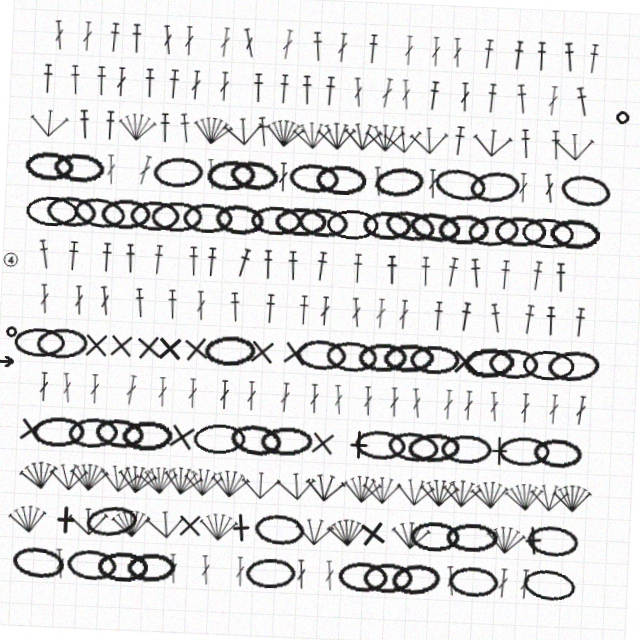chain: (427, 160, 482, 197), (93, 512, 148, 549), (379, 204, 433, 241), (462, 205, 517, 241), (462, 161, 516, 197), (553, 161, 607, 197), (68, 205, 122, 241), (533, 557, 588, 592), (367, 161, 420, 197), (548, 337, 602, 372), (234, 425, 288, 460), (22, 557, 76, 592), (404, 205, 457, 240), (401, 557, 454, 592), (392, 426, 446, 460), (412, 426, 466, 460), (464, 338, 517, 372), (199, 162, 251, 196), (222, 162, 274, 196), (37, 338, 90, 371), (536, 514, 589, 547), (517, 207, 571, 239), (198, 427, 252, 459), (146, 162, 198, 195), (41, 206, 93, 239), (205, 338, 257, 371), (384, 338, 436, 371), (72, 426, 124, 459), (99, 426, 151, 459), (77, 558, 129, 591), (327, 339, 380, 371), (37, 427, 90, 459), (265, 427, 318, 459), (46, 163, 98, 195), (282, 163, 334, 195), (146, 207, 198, 239), (293, 207, 345, 239), (433, 207, 485, 239), (126, 427, 178, 459), (263, 515, 315, 547), (210, 207, 261, 239), (359, 339, 410, 371), (538, 427, 589, 459), (137, 559, 188, 591), (256, 559, 307, 591), (490, 207, 542, 238), (504, 427, 556, 458), (322, 208, 375, 238), (524, 340, 577, 370), (96, 207, 147, 238), (545, 207, 596, 238), (297, 339, 348, 370), (360, 427, 411, 458), (349, 559, 400, 590), (374, 559, 425, 590), (459, 559, 510, 590), (21, 208, 73, 238), (246, 208, 298, 238), (270, 208, 322, 238), (15, 340, 67, 370), (455, 516, 507, 546), (18, 163, 68, 194), (309, 164, 360, 194), (125, 208, 176, 238), (411, 340, 462, 370), (490, 340, 541, 370), (446, 428, 497, 458), (419, 516, 470, 546), (108, 560, 159, 590), (178, 208, 228, 238), (358, 208, 408, 238)
double: (130, 163, 147, 194), (229, 31, 245, 62), (370, 75, 384, 106), (269, 31, 282, 62), (537, 163, 550, 194), (98, 295, 111, 326), (128, 383, 141, 414), (149, 32, 162, 62), (64, 384, 77, 414), (414, 384, 427, 414), (578, 384, 591, 414), (456, 560, 469, 590), (41, 32, 53, 62), (207, 32, 219, 62), (342, 76, 354, 106), (390, 76, 402, 106), (537, 76, 549, 106), (199, 164, 211, 194), (366, 164, 378, 194), (38, 296, 50, 326), (350, 296, 362, 326), (336, 384, 348, 414), (492, 384, 504, 414), (65, 560, 77, 590), (211, 560, 223, 590), (335, 560, 347, 590), (325, 32, 336, 62), (440, 32, 451, 62), (180, 76, 191, 106), (99, 164, 110, 194), (421, 164, 432, 194), (73, 296, 84, 326), (195, 296, 206, 326), (319, 296, 330, 326), (375, 296, 386, 326), (398, 296, 409, 326), (283, 384, 294, 414), (366, 384, 377, 414), (552, 384, 563, 414), (179, 560, 190, 590), (246, 560, 257, 590), (307, 560, 318, 590), (509, 560, 520, 590), (531, 560, 542, 590), (70, 32, 80, 62), (172, 32, 182, 62), (392, 32, 402, 62), (419, 32, 429, 62), (106, 76, 116, 106), (209, 76, 219, 106), (450, 76, 460, 106), (272, 164, 282, 194), (512, 164, 522, 194), (42, 384, 52, 414), (93, 384, 103, 414), (161, 384, 171, 414), (191, 384, 201, 414), (223, 384, 233, 414), (250, 384, 260, 414), (313, 384, 323, 414), (393, 384, 403, 414), (447, 384, 457, 414), (467, 384, 477, 414), (524, 384, 534, 414)
fan: (25, 469, 68, 505), (168, 469, 212, 504), (183, 118, 226, 152), (123, 470, 166, 504), (374, 118, 416, 152), (511, 470, 553, 504), (16, 514, 58, 548), (214, 118, 256, 151), (256, 118, 298, 151), (106, 470, 148, 503), (145, 470, 187, 503), (283, 470, 325, 503), (154, 514, 196, 547), (335, 514, 377, 547), (477, 470, 518, 503), (283, 119, 325, 151), (400, 119, 442, 151), (546, 119, 588, 151), (308, 119, 349, 151), (464, 119, 505, 151), (217, 471, 258, 503), (312, 471, 353, 503), (77, 515, 118, 547), (120, 515, 161, 547), (495, 515, 536, 547), (403, 471, 443, 503), (76, 471, 117, 502), (190, 471, 231, 502), (369, 471, 410, 502), (449, 471, 490, 502), (400, 515, 441, 546), (21, 119, 61, 150), (109, 119, 149, 150), (335, 119, 375, 150), (357, 119, 397, 150), (350, 471, 390, 502), (537, 471, 577, 502), (560, 471, 600, 502), (208, 515, 248, 546), (56, 472, 96, 502), (248, 472, 288, 502), (427, 472, 467, 502), (304, 516, 344, 546)
half_double: (232, 251, 250, 282), (564, 75, 581, 106), (34, 251, 50, 282), (442, 251, 458, 282), (488, 295, 504, 326), (550, 31, 565, 62), (466, 251, 481, 282), (521, 295, 536, 326), (505, 75, 519, 106), (170, 119, 184, 150), (248, 119, 262, 150), (312, 251, 326, 282), (528, 251, 542, 282), (458, 295, 472, 326), (69, 120, 83, 150), (444, 120, 458, 150), (299, 32, 312, 62), (470, 32, 483, 62), (500, 32, 513, 62), (575, 32, 588, 62), (157, 76, 170, 106), (417, 76, 430, 106), (150, 120, 163, 150), (511, 120, 524, 150), (64, 252, 77, 282), (149, 252, 162, 282), (284, 252, 297, 282), (383, 252, 396, 282), (552, 252, 565, 282), (133, 296, 146, 326), (228, 296, 241, 326), (573, 296, 586, 326), (96, 32, 108, 62), (355, 32, 367, 62), (59, 76, 71, 106), (85, 76, 97, 106), (242, 76, 254, 106), (268, 76, 280, 106), (291, 76, 303, 106), (314, 76, 326, 106), (476, 76, 488, 106), (542, 120, 554, 150), (98, 252, 110, 282), (122, 252, 134, 282), (185, 252, 197, 282), (203, 252, 215, 282), (497, 252, 509, 282), (166, 296, 178, 326), (432, 296, 444, 326), (119, 32, 130, 62), (524, 32, 535, 62), (32, 76, 43, 106), (134, 76, 145, 106), (96, 120, 107, 150), (260, 252, 271, 282), (350, 252, 361, 282), (418, 252, 429, 282), (264, 296, 275, 326), (298, 296, 309, 326), (545, 296, 556, 326)
noise: (0, 264, 18, 283), (606, 97, 621, 112), (0, 370, 18, 381), (6, 339, 18, 351)
single: (170, 426, 204, 460), (365, 514, 399, 548), (181, 338, 214, 371), (280, 338, 313, 371), (20, 426, 53, 459), (134, 339, 166, 371), (312, 427, 344, 459), (234, 515, 266, 547), (527, 515, 559, 547), (107, 339, 138, 370), (248, 339, 279, 370), (156, 340, 186, 370), (452, 340, 482, 370), (349, 428, 379, 458), (490, 428, 520, 458), (60, 516, 90, 546), (184, 516, 214, 546), (83, 340, 112, 370)
